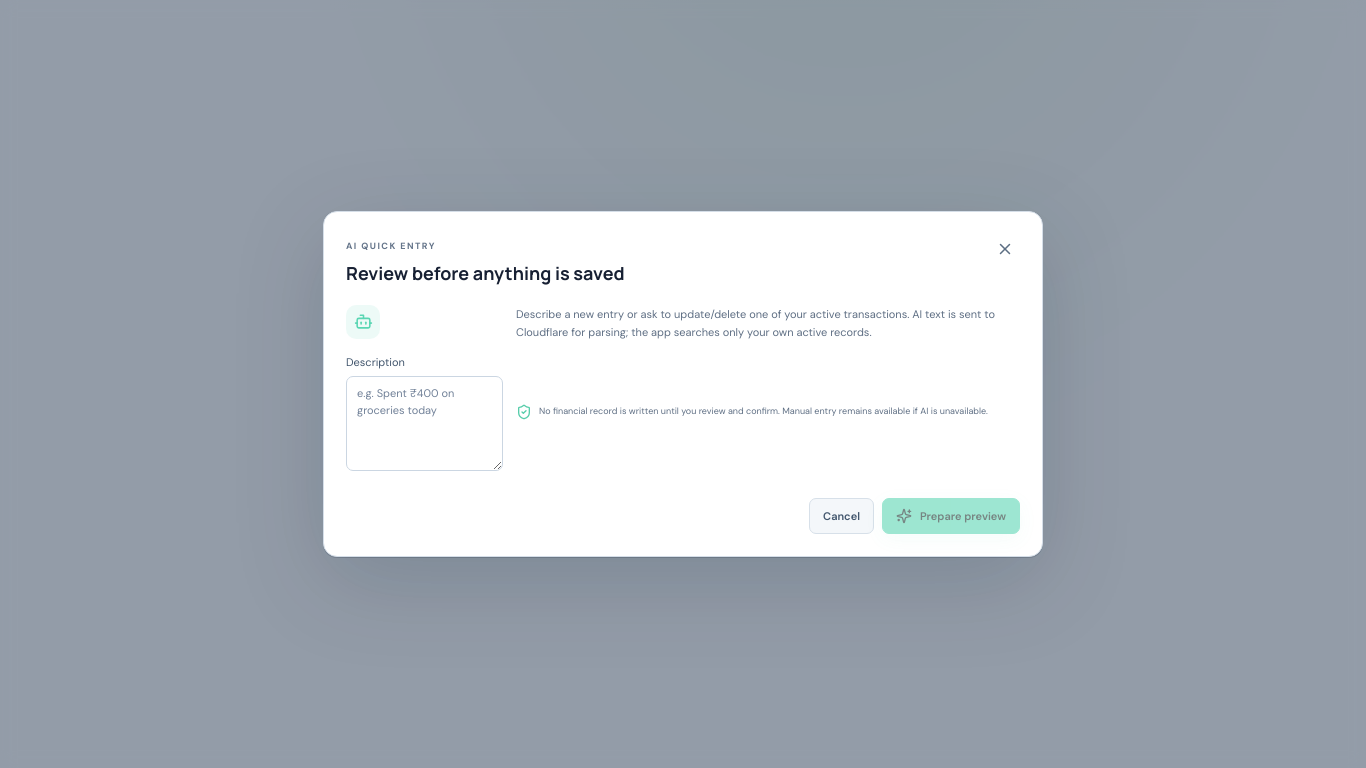
Test: AI proposal confirmation › allows removing individual proposed records before any write
Step 1. Type "Two expenses" into the text box labelled "Description" → (424, 424), box [346,376,503,471]
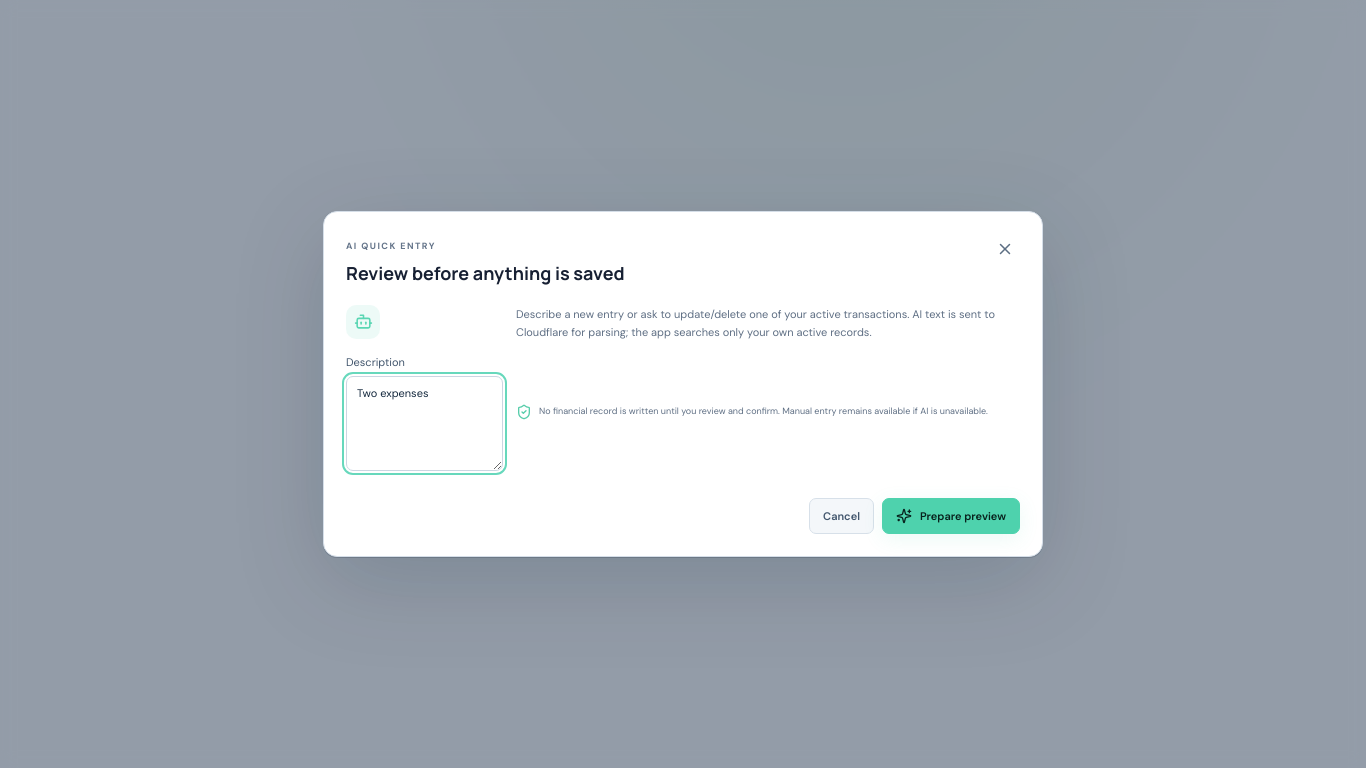
Step 2. Click the button "Prepare preview" → (951, 516), box [882,498,1020,534]
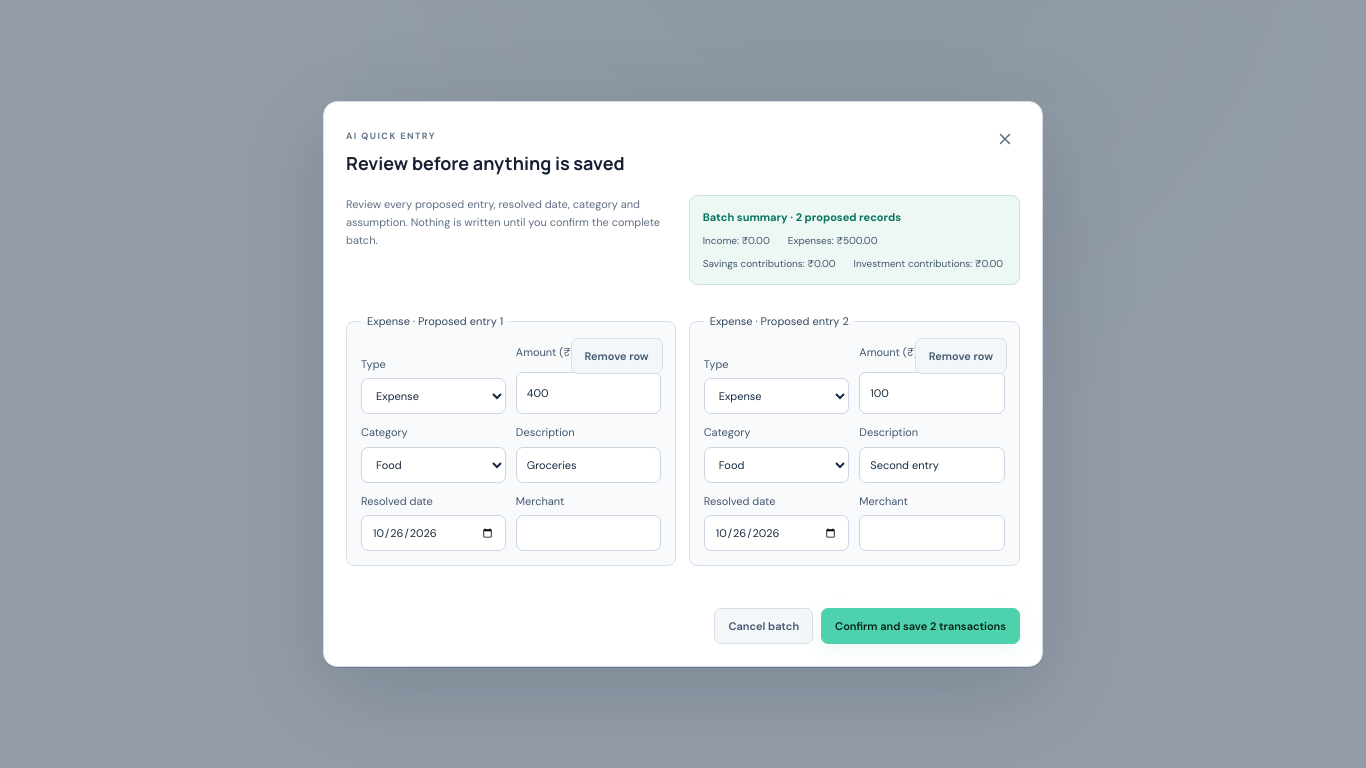
Result: the text "Batch summary · 2 proposed records" is shown at [703,210,901,224]
Step 3. Click the 1st button "Remove row" → (617, 356), box [571,338,663,374]
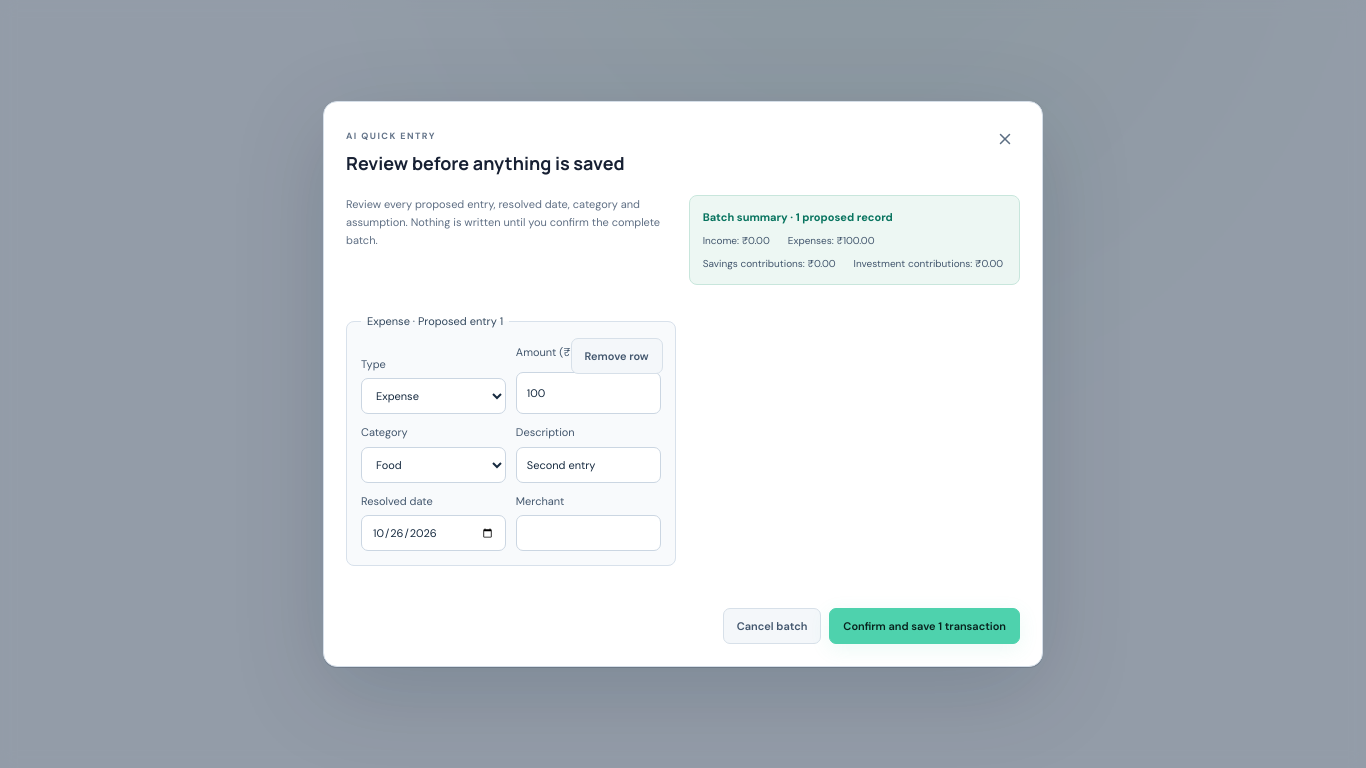
Result: the text "Batch summary · 1 proposed record" is shown at [703,210,893,224]
